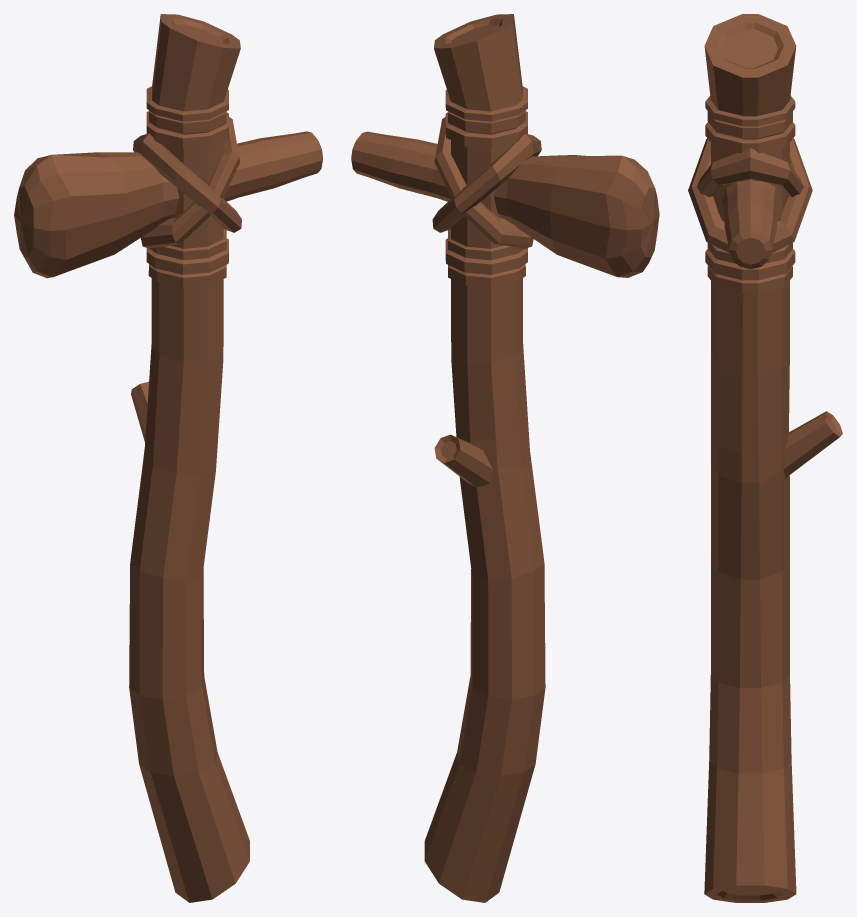
File: Wooden Axe.glb
3 renders of one model, left to right at view 1: azimuth 30°, elevation 25°; view 2: azimuth 150°, elevation 25°; view 3: azimuth 270°, elevation 25°, orthographic.
Parts seen in each view (by area): view 1: Wooden Axe; view 2: Wooden Axe; view 3: Wooden Axe.
Boxes of the visible parts, x1,y1,x2,y2 form: Wooden Axe: [14, 14, 322, 902]; Wooden Axe: [351, 14, 659, 902]; Wooden Axe: [688, 14, 842, 902].
Size of the model in its own units: 44.54 by 127 by 20.2.
